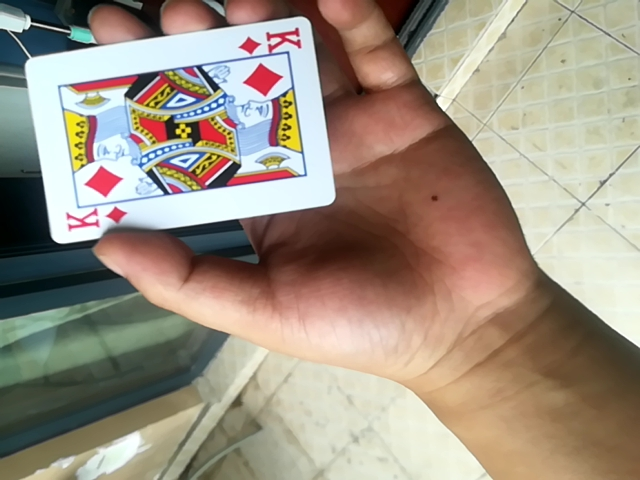fk k: (20, 16, 339, 252)
